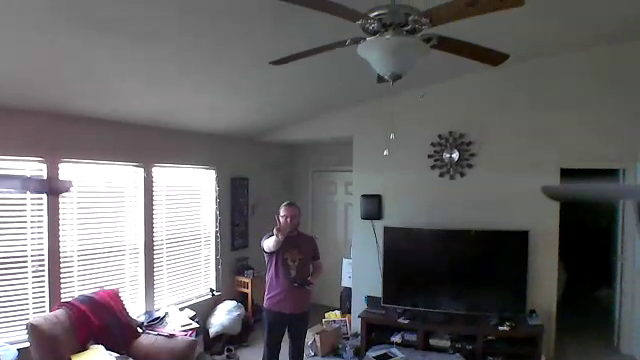peace: (270, 212, 292, 243)
